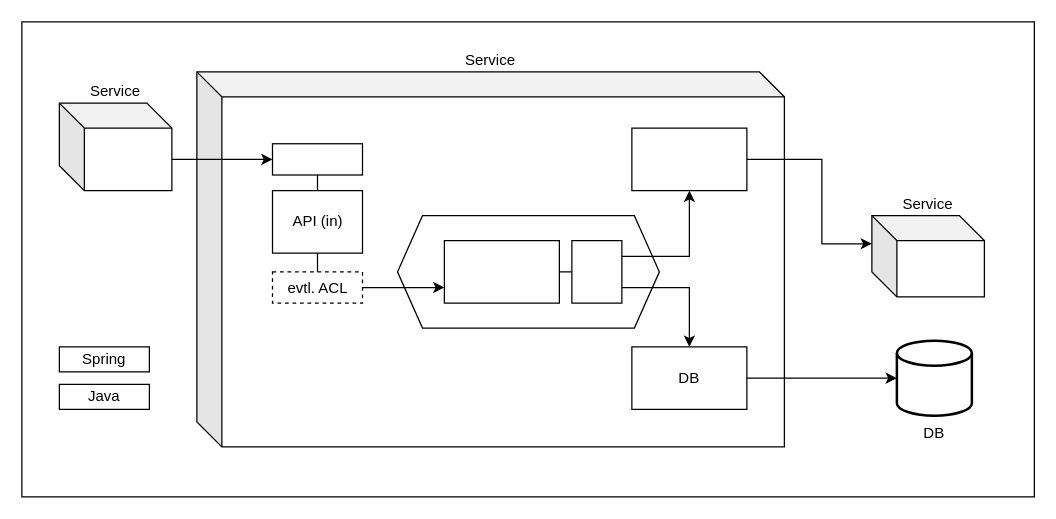
Some shapes in this 1056 by 519 pixel diagram are drawn without their labels. The shapes that lost their labels are listed below. From the top down, each one's centre as x and y in pixels, then its label:
At (316,158): "Security".
At (689,159): "API (out)".
At (501,271): "Business".
At (596,271): "Inter- faces".
